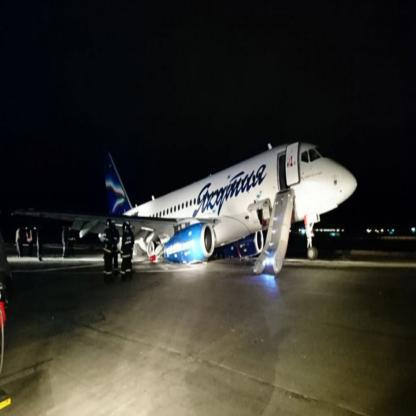CIV_Plane: (6, 132, 362, 286)
